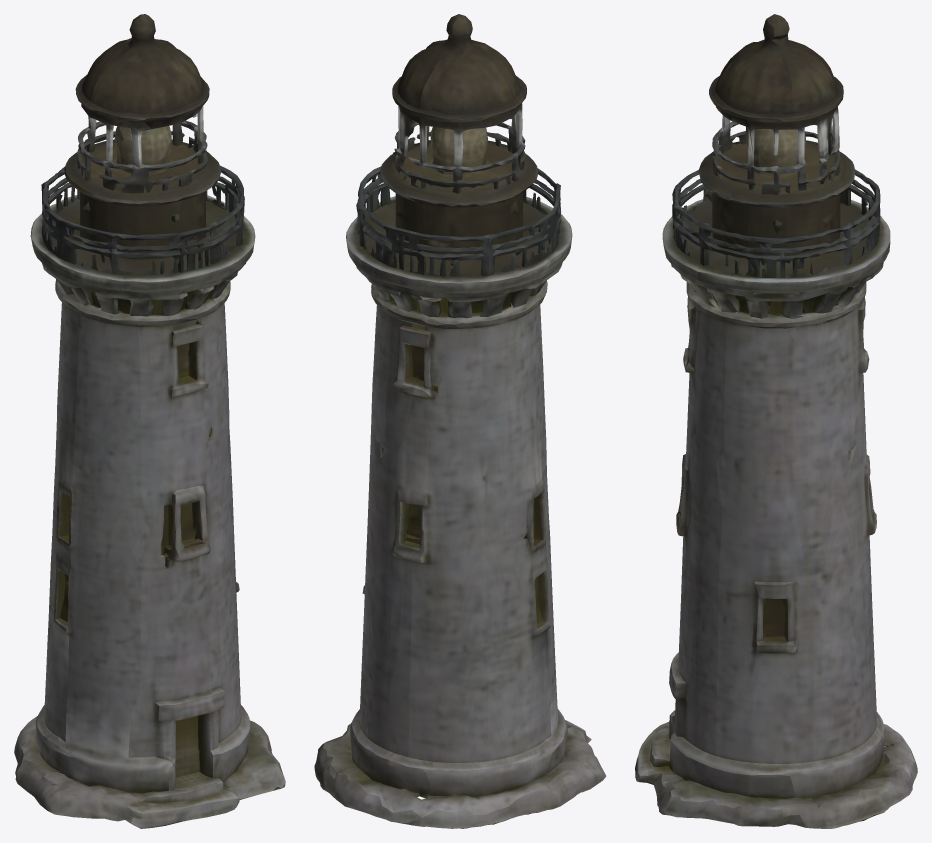
3 renders of one model, left to right at view 1: azimuth 30°, elevation 25°; view 2: azimuth 150°, elevation 25°; view 3: azimuth 270°, elevation 25°, orthographic.
Parts seen in each view (by area): view 1: world; view 2: world; view 3: world.
Boxes of the visible parts, x1,y1,x2,y2 form: world: (14, 14, 285, 828); world: (314, 14, 606, 828); world: (635, 14, 917, 828).
Bounding box in the file's own units: 0.2146 × 0.65 × 0.2198.
Materials: 1 (1 with a texture image).
